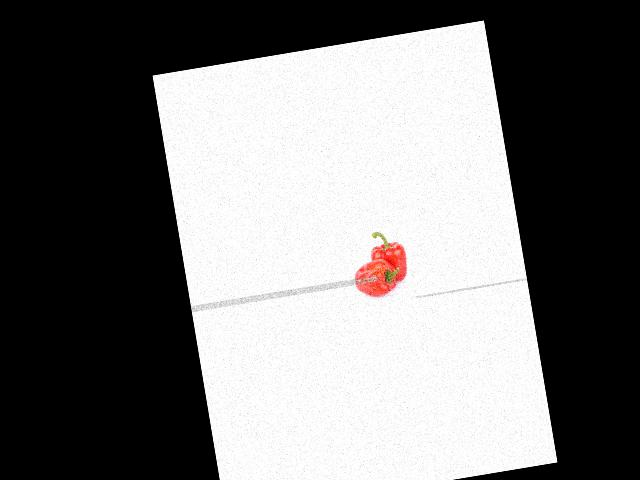bell_pepper: (346, 253, 401, 300)
